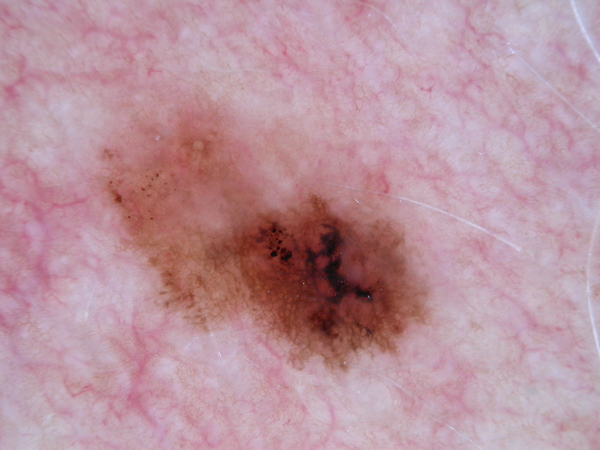Detected Lesion: (99, 118, 435, 380)
